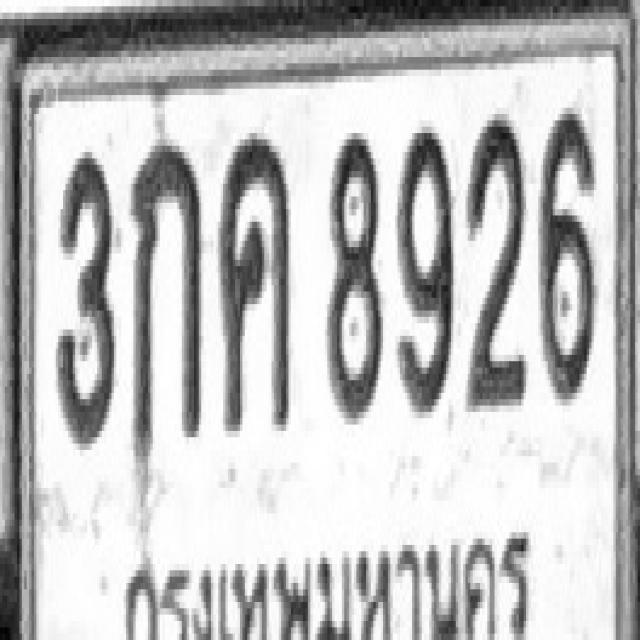10GorGai: (131, 136, 201, 453)
13KhorKhwai: (218, 133, 291, 431)
2: (466, 111, 526, 409)
3: (56, 146, 114, 444)
6: (540, 108, 596, 399)
8: (326, 127, 382, 418)
9: (396, 127, 452, 412)
Bangkok: (114, 514, 541, 640)
